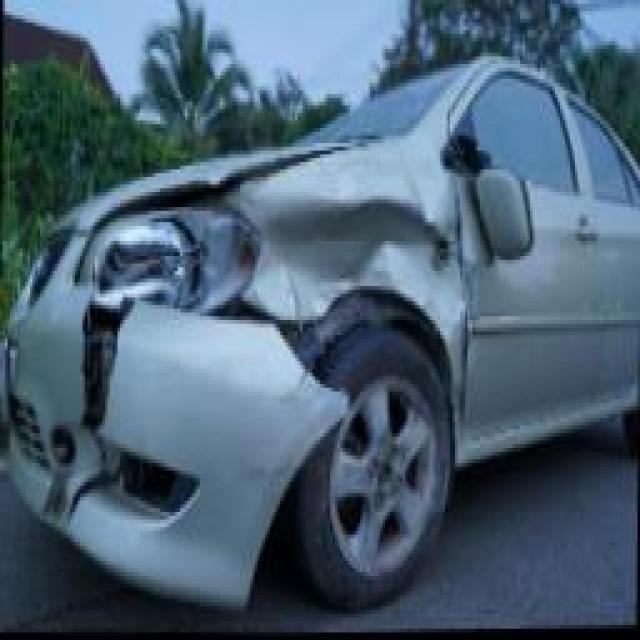Bumper: (15, 297, 308, 611)
Fender: (250, 166, 465, 343)
Light: (90, 203, 255, 312)
